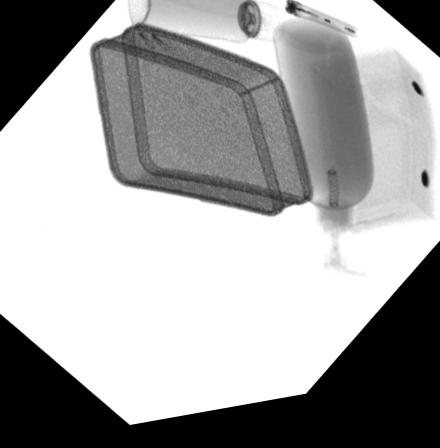Lighter: (285, 9, 358, 52)
Sprayer: (127, 0, 285, 55)
